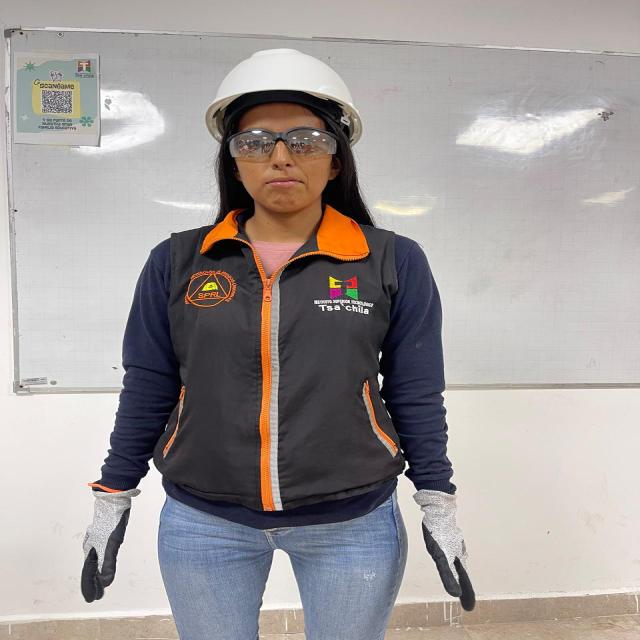gloves: (413, 489, 475, 611), (81, 486, 139, 602)
helmet: (205, 48, 363, 140)
protective_glasses: (228, 127, 338, 162)
